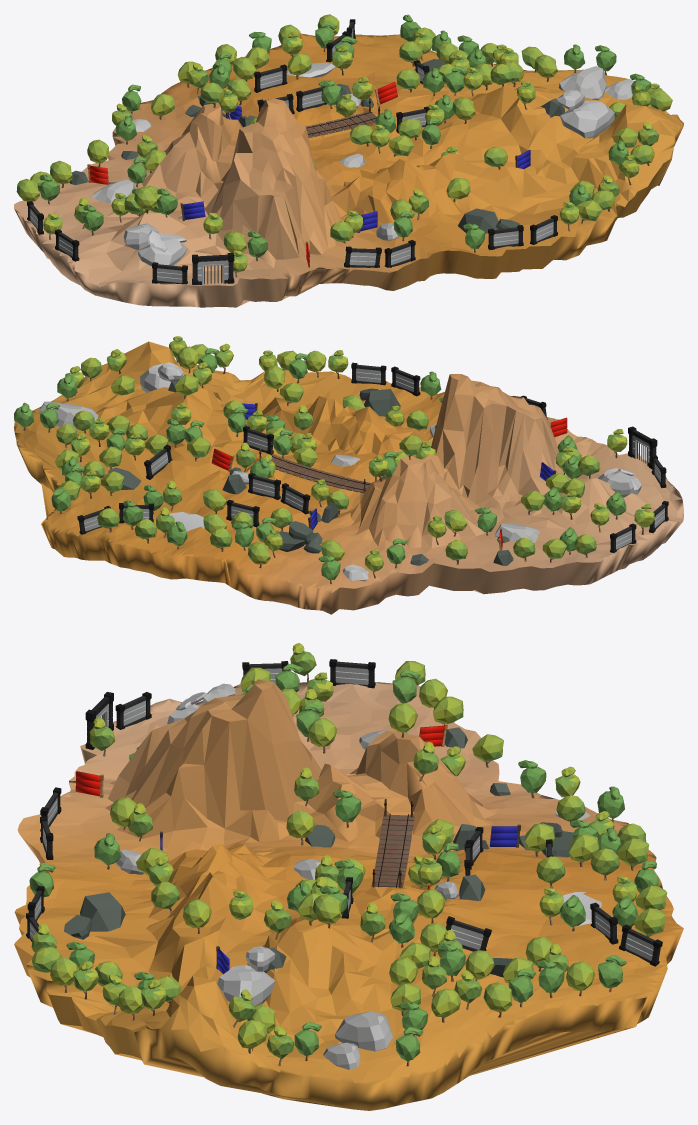
Rendered from desert_map.fbx.
3 renders of one model, top to bottom at view 1: azimuth 30°, elevation 25°; view 2: azimuth 150°, elevation 25°; view 3: azimuth 270°, elevation 25°, orthographic. The views are drawn at different scales.
Visible parts, largest first — view 1: island_1, Rock_2.001, Pillar.008, Rock_2.002, Bridge, Rock_2, Pillar.004, Pillar.018, Pillar.013, Stone_1.004, Pillar.006, Pillar.012 (+5 smaller); view 2: island_1, Bridge, Pillar.008, Pillar.017, Stone_1.004, Pillar.007, Rock_2.006, Pillar.018, Pillar.003, Pillar.009, Rock_2.002, Rock_2.005 (+5 smaller); view 3: island_1, Bridge, Rock_2.002, Rock_2.001, Stone_1.004, Pillar.010, Pillar.002, Pillar.001, Pillar.013, Rock_2.003, Pillar.008, Bush_3.004 (+9 smaller).
Boxes of the visible parts, bbox=[...] form: island_1: bbox=[14, 33, 683, 307]; Rock_2.001: bbox=[560, 100, 614, 138]; Pillar.008: bbox=[192, 252, 234, 284]; Rock_2.002: bbox=[558, 66, 606, 100]; Bridge: bbox=[253, 98, 380, 137]; Rock_2: bbox=[138, 237, 187, 266]; Pillar.004: bbox=[344, 246, 381, 267]; Pillar.018: bbox=[488, 225, 523, 250]; Pillar.013: bbox=[152, 262, 187, 284]; Stone_1.004: bbox=[458, 208, 498, 233]; Pillar.006: bbox=[254, 64, 287, 92]; Pillar.012: bbox=[384, 240, 415, 267]; island_1: bbox=[14, 341, 683, 614]; Bridge: bbox=[259, 442, 376, 493]; Pillar.008: bbox=[628, 426, 657, 468]; Pillar.017: bbox=[351, 362, 386, 385]; Stone_1.004: bbox=[364, 389, 400, 416]; Pillar.007: bbox=[248, 473, 280, 499]; Rock_2.006: bbox=[495, 523, 539, 543]; Pillar.018: bbox=[391, 366, 420, 396]; Pillar.003: bbox=[243, 426, 273, 454]; Pillar.009: bbox=[280, 483, 310, 514]; Rock_2.002: bbox=[53, 403, 98, 428]; Rock_2.005: bbox=[600, 470, 633, 497]; island_1: bbox=[14, 679, 683, 1110]; Bridge: bbox=[371, 799, 414, 888]; Rock_2.002: bbox=[335, 1011, 392, 1051]; Rock_2.001: bbox=[217, 965, 274, 1005]; Stone_1.004: bbox=[80, 892, 125, 931]; Pillar.010: bbox=[329, 659, 375, 688]; Pillar.002: bbox=[619, 924, 662, 966]; Pillar.001: bbox=[446, 916, 491, 951]; Pillar.013: bbox=[115, 692, 151, 729]; Rock_2.003: bbox=[323, 1042, 360, 1069]; Pillar.008: bbox=[85, 692, 113, 749]; Bush_3.004: bbox=[598, 955, 626, 992].
Size of the model in its own units: 5565 by 1222 by 4037.
